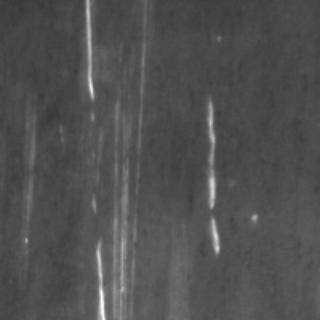scratches: (90, 87, 138, 315), (198, 93, 226, 253), (18, 101, 40, 259), (75, 0, 97, 104)
